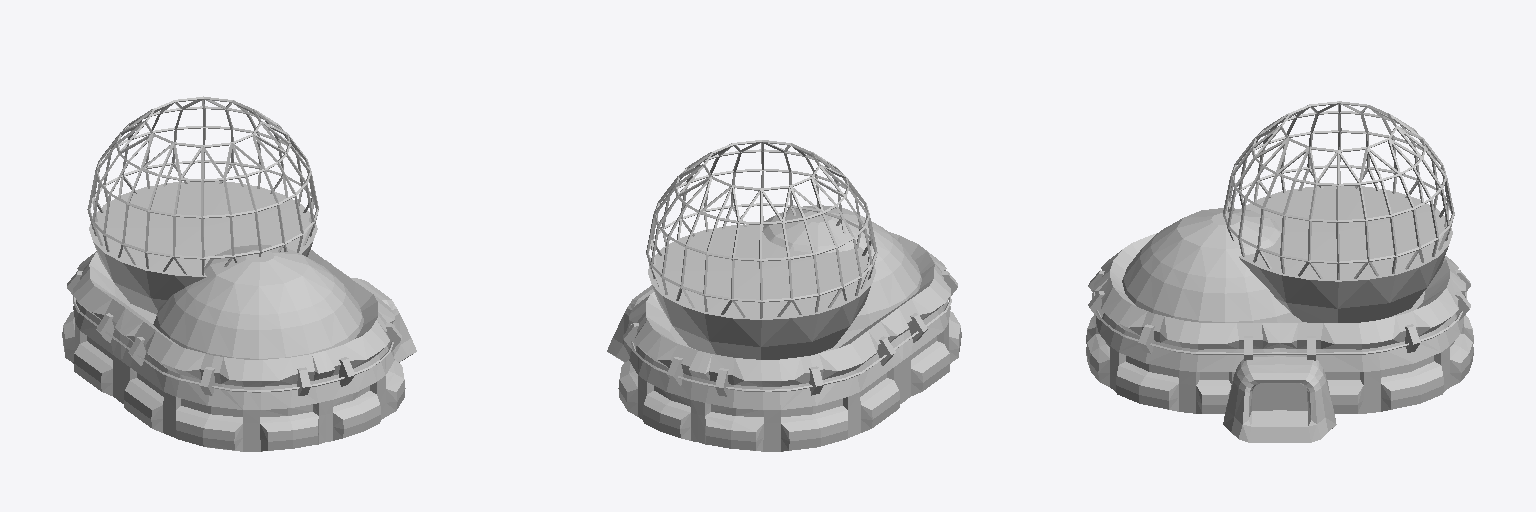
File: bld-08-02-Constr-levels_obj.obj
The picture shows the model from 3 angles: view 1: azimuth 30°, elevation 25°; view 2: azimuth 150°, elevation 25°; view 3: azimuth 270°, elevation 25°; orthographic projection.
Visible parts, largest first — view 1: bld-08-02; view 2: bld-08-02; view 3: bld-08-02.
Boxes of the visible parts, <box> form: bld-08-02: <box>62,96,416,451</box>; bld-08-02: <box>607,140,961,451</box>; bld-08-02: <box>1086,101,1473,442</box>.
Bounding box in the file's own units: 10.5 × 8.32 × 12.28.